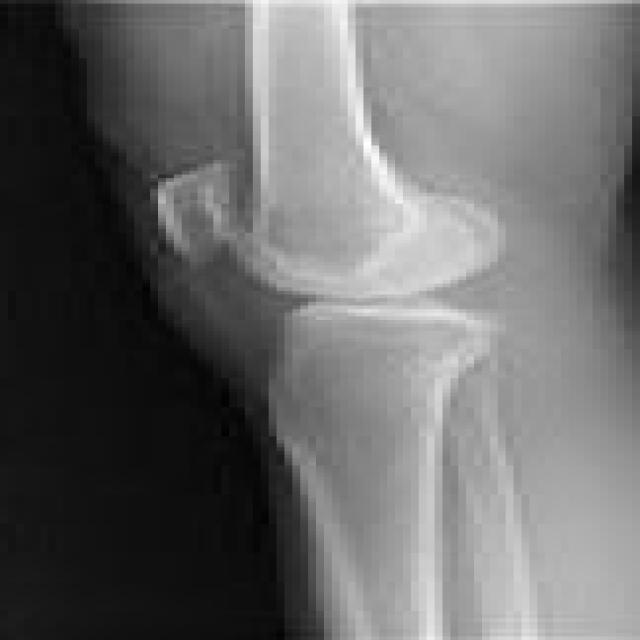Hairline: (106, 138, 518, 360)
